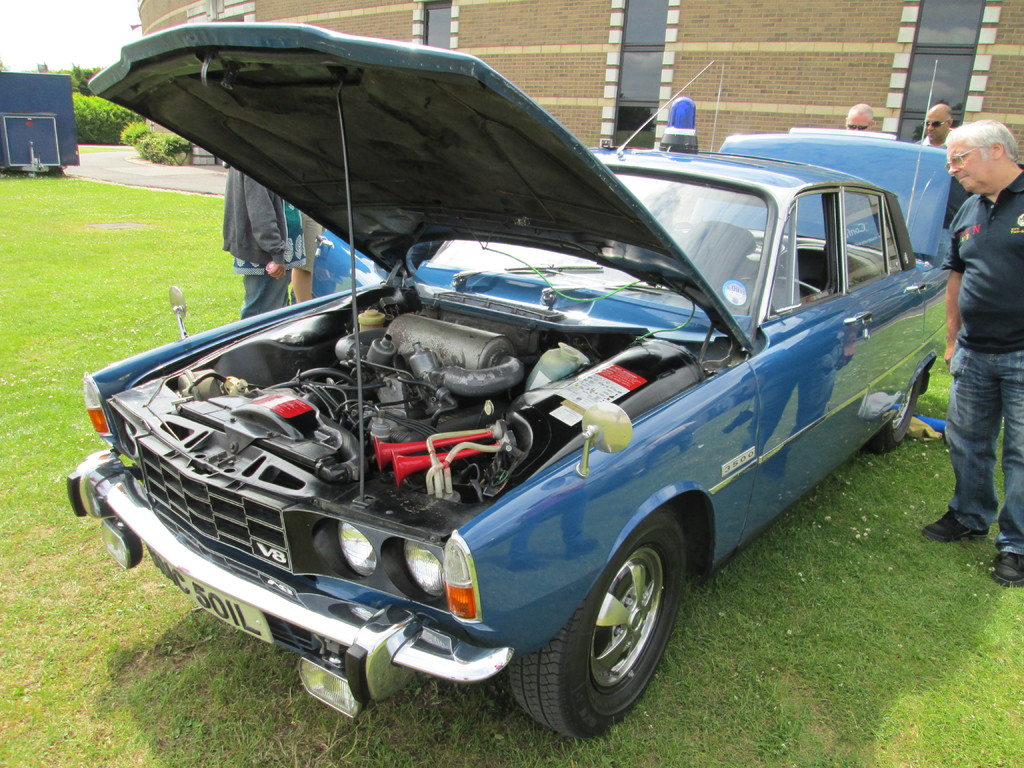car: (51, 82, 979, 747)
